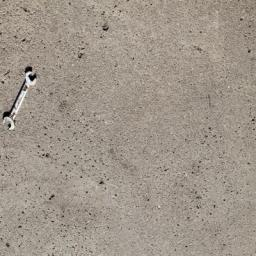FOD: (1, 66, 42, 135)
